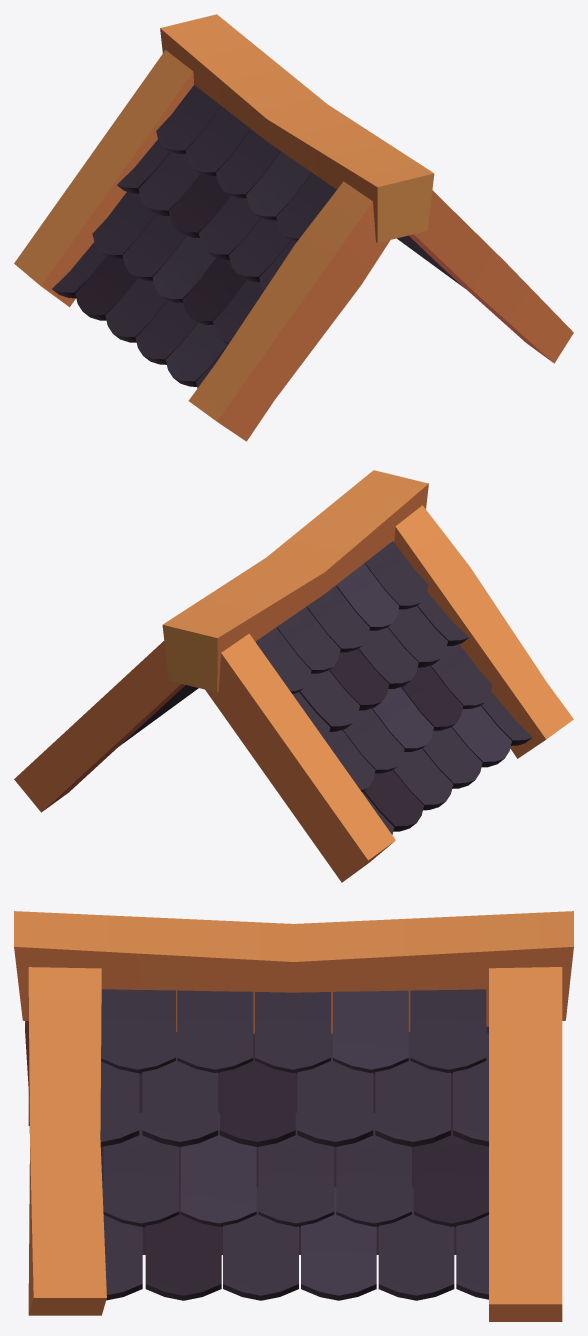
Rendered from Roof01_Black_Wood.glb.
The picture shows the model from 3 angles, top to bottom: view 1: azimuth 30°, elevation 25°; view 2: azimuth 150°, elevation 25°; view 3: azimuth 270°, elevation 25°; orthographic projection. The views are drawn at different scales.
Visible parts, largest first — view 1: Roof01_Black_Wood; view 2: Roof01_Black_Wood; view 3: Roof01_Black_Wood.
Part boxes in pixels (x1=…): Roof01_Black_Wood: x1=14, y1=14, x2=573, y2=441; Roof01_Black_Wood: x1=14, y1=470, x2=573, y2=882; Roof01_Black_Wood: x1=14, y1=911, x2=573, y2=1321.
Bounding box in the file's own units: 2.41 × 1.43 × 2.46.
1 material, 1 textured.
